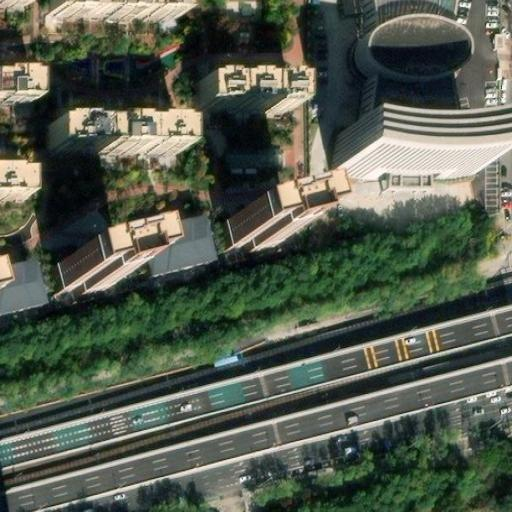building: (0, 213, 214, 316), (352, 64, 451, 138), (336, 130, 484, 175), (351, 15, 450, 80), (49, 123, 185, 154), (38, 259, 115, 301), (216, 213, 292, 255), (201, 82, 296, 112), (355, 0, 441, 31), (46, 0, 179, 20), (0, 80, 32, 110), (0, 175, 22, 203)
